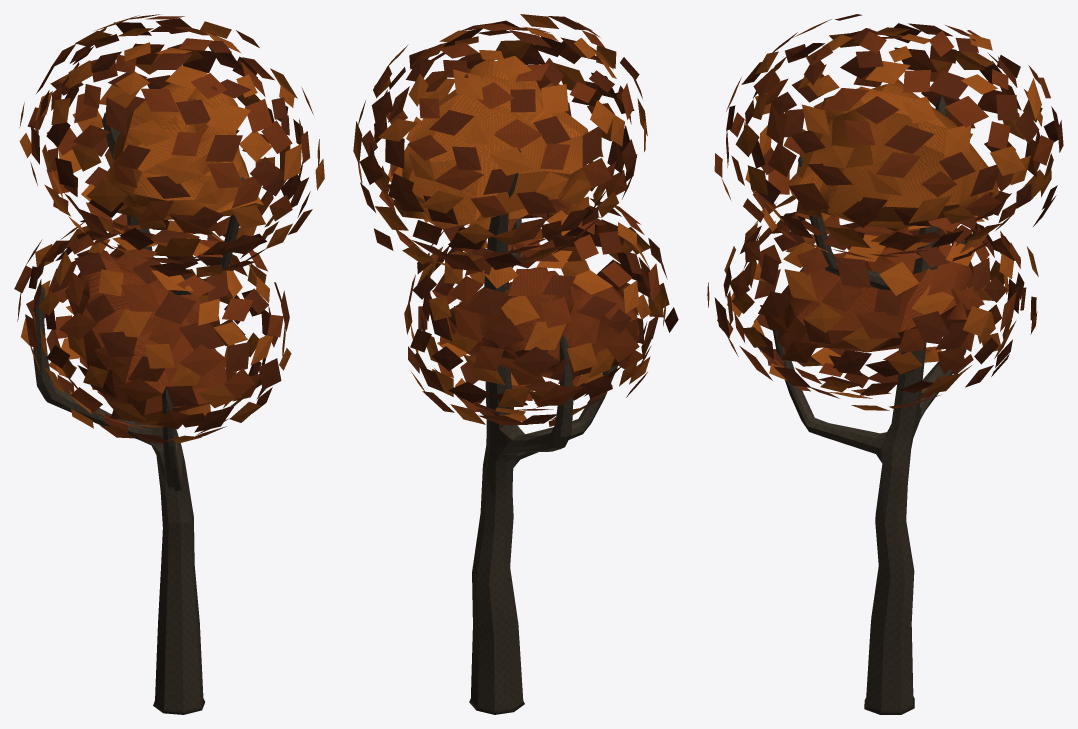
Rendered from autumn-tree-lod.glb.
3 renders of one model, left to right at view 1: azimuth 30°, elevation 25°; view 2: azimuth 150°, elevation 25°; view 3: azimuth 270°, elevation 25°, orthographic.
Visible parts, largest first — view 1: autumn-tree-leaf-envelope-2, autumn-tree-leaf-envelope-1, autumn-tree-trunk-and-branches, autumn-tree-canopy-lobe-2, autumn-tree-canopy-lobe-1; view 2: autumn-tree-leaf-envelope-2, autumn-tree-leaf-envelope-1, autumn-tree-trunk-and-branches, autumn-tree-canopy-lobe-2, autumn-tree-canopy-lobe-1; view 3: autumn-tree-leaf-envelope-2, autumn-tree-leaf-envelope-1, autumn-tree-trunk-and-branches, autumn-tree-canopy-lobe-2, autumn-tree-canopy-lobe-1.
Boxes of the visible parts, x1=… form: autumn-tree-leaf-envelope-2: x1=19, y1=14, x2=324, y2=277; autumn-tree-leaf-envelope-1: x1=14, y1=217, x2=291, y2=443; autumn-tree-trunk-and-branches: x1=33, y1=112, x2=244, y2=714; autumn-tree-canopy-lobe-2: x1=103, y1=83, x2=263, y2=219; autumn-tree-canopy-lobe-1: x1=65, y1=250, x2=226, y2=418; autumn-tree-leaf-envelope-2: x1=353, y1=14, x2=647, y2=271; autumn-tree-leaf-envelope-1: x1=404, y1=198, x2=678, y2=426; autumn-tree-trunk-and-branches: x1=469, y1=149, x2=617, y2=714; autumn-tree-canopy-lobe-2: x1=393, y1=59, x2=588, y2=229; autumn-tree-canopy-lobe-1: x1=448, y1=270, x2=639, y2=380; autumn-tree-leaf-envelope-2: x1=714, y1=14, x2=1063, y2=261; autumn-tree-leaf-envelope-1: x1=707, y1=195, x2=1038, y2=410; autumn-tree-trunk-and-branches: x1=773, y1=95, x2=966, y2=714; autumn-tree-canopy-lobe-2: x1=787, y1=79, x2=999, y2=228; autumn-tree-canopy-lobe-1: x1=777, y1=227, x2=973, y2=352.
Bounding box in the file's own units: 3.55 × 8.93 × 4.29.
6 materials, 6 textured.
